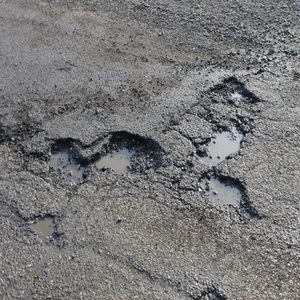pothole: (35, 135, 167, 189), (197, 123, 258, 220)
